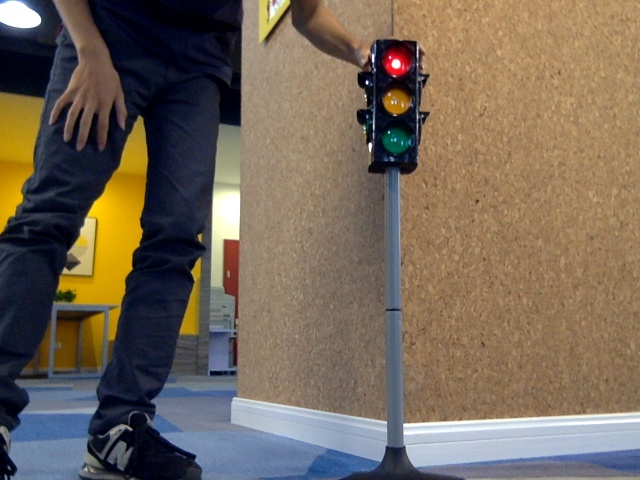red: (374, 48, 413, 158)
